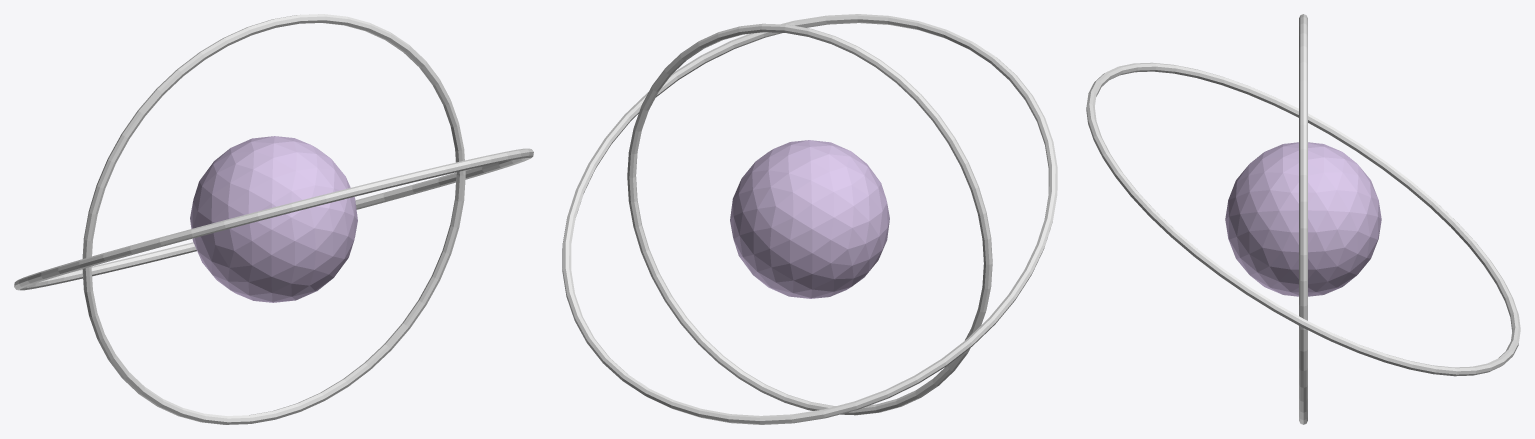
Rendered from arc-motion.glb.
3 views of the same model, side by side, from view 1: azimuth 30°, elevation 25°; view 2: azimuth 150°, elevation 25°; view 3: azimuth 270°, elevation 25° (orthographic). The views are drawn at different scales.
Visible parts, largest first — view 1: world; view 2: world; view 3: world.
Part boxes in pixels (x1=…): world: x1=14, y1=14, x2=533, y2=424; world: x1=562, y1=14, x2=1057, y2=424; world: x1=1086, y1=14, x2=1520, y2=424.
Bounding box in the file's own units: 2 × 1.64 × 1.74.
1 material, 1 textured.
